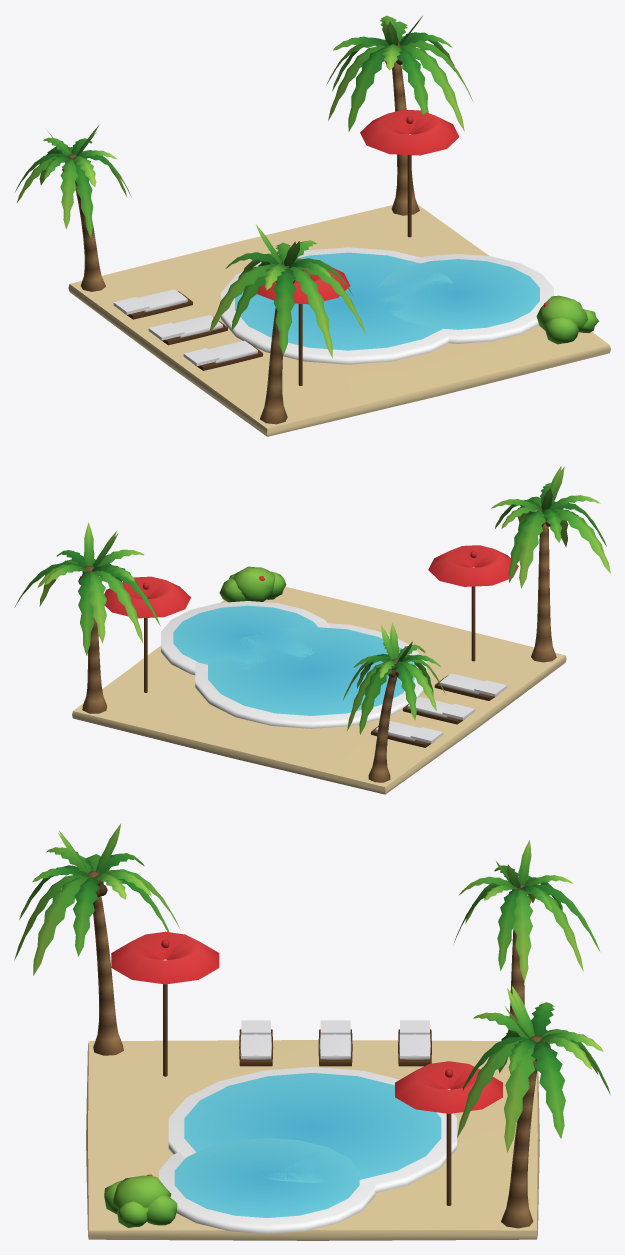
Rendered from Pool.obj.
3 views of the same model, one above another, from view 1: azimuth 30°, elevation 25°; view 2: azimuth 150°, elevation 25°; view 3: azimuth 270°, elevation 25° (orthographic). The views are drawn at different scales.
Visible parts, largest first — view 1: Pool; view 2: Pool; view 3: Pool.
Part boxes in pixels (x1,y1,x2,y2): Pool: (15,15,610,436); Pool: (14,466,610,794); Pool: (14,823,610,1240).
Size of the model in its own units: 5.2 by 2.29 by 5.26.
Materials: 1 (1 with a texture image).
